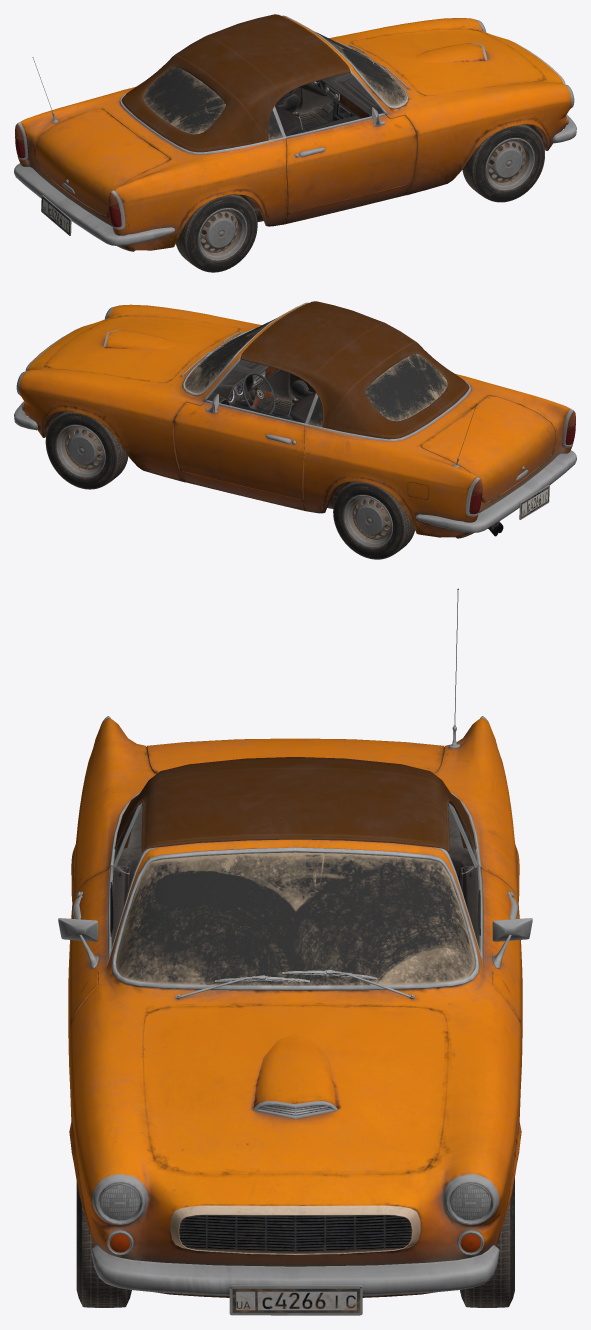
The model's file is pubg_coupe_rb.glb.
The picture shows the model from 3 angles, top to bottom: view 1: azimuth 30°, elevation 25°; view 2: azimuth 150°, elevation 25°; view 3: azimuth 270°, elevation 25°; orthographic projection. The views are drawn at different scales.
Visible parts, largest first — view 1: Object_3, Object_2, Object_6, Object_4, Object_5; view 2: Object_3, Object_2, Object_6, Object_4, Object_5; view 3: Object_3, Object_6, Object_2, Object_4, Object_5.
Part boxes in pixels (x1,y1,x2,y2): Object_3: (14,14,576,250); Object_2: (117,124,546,272); Object_6: (143,32,405,140); Object_4: (220,72,383,136); Object_5: (15,81,318,227); Object_3: (14,301,576,537); Object_2: (44,411,503,559); Object_6: (185,318,447,427); Object_4: (207,359,438,423); Object_5: (228,382,575,514); Object_3: (58,588,532,1315); Object_6: (110,810,480,985); Object_2: (76,1178,514,1307); Object_4: (111,805,479,947); Object_5: (99,1183,491,1253).
Size of the model in its own units: 1761 by 586 by 745.
5 materials, 5 textured.
